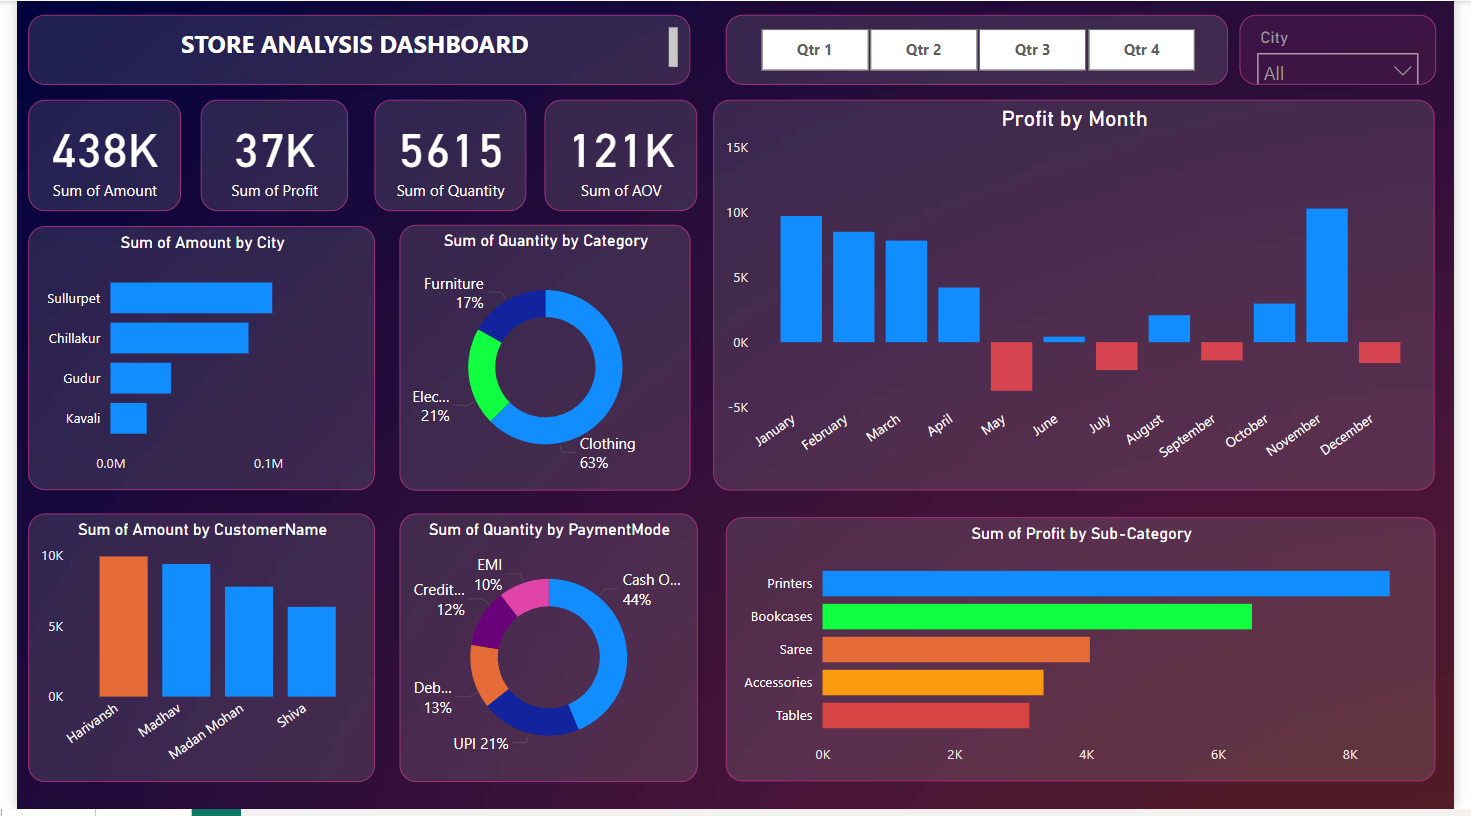

The page's visual inventory and layout, read from the dashboard file:
{"tool":"powerbi","page":{"name":"Page 1","canvas":[1280,720],"ordinal":0},"visuals":[{"type":"textbox","box":[9.7,12.1,589.9,62.7],"z":0},{"type":"columnChart","title":"Profit by Month","fields":{"Category":["d_Orders.Order Date.Variation.Date Hierarchy.Month"],"Y":["f_Details.Profit"]},"box":[620.4,88,642,347.7],"z":1000},{"type":"barChart","fields":{"Category":["f_Details.Sub-Category"],"Y":["f_Details.Profit"]},"box":[631,459.7,632.2,235.3],"z":2000},{"type":"donutChart","fields":{"Category":["f_Details.Category"],"Y":["f_Details.Quantity"]},"box":[340.2,199.1,259.4,236.5],"z":3000},{"type":"donutChart","fields":{"Category":["f_Details.PaymentMode"],"Y":["f_Details.Quantity"]},"box":[340.2,456,265.4,238.9],"z":4000},{"type":"card","fields":{"Values":["f_Details.Amount"]},"box":[9.7,88.1,136.3,98.9],"z":5000},{"type":"card","fields":{"Values":["f_Details.Quantity"]},"box":[318.5,88.1,135.1,98.9],"z":6000},{"type":"card","fields":{"Values":["f_Details.Profit"]},"box":[164.1,88.1,131.5,98.9],"z":7000},{"type":"card","fields":{"Values":["f_Details.AOV"]},"box":[469.3,88.1,136.3,98.9],"z":8000},{"type":"barChart","fields":{"Category":["d_Orders.City"],"Y":["f_Details.Amount"]},"box":[9.7,200.3,308.8,235.3],"z":9000},{"type":"columnChart","fields":{"Category":["d_Orders.CustomerName"],"Y":["f_Details.Amount"]},"box":[9.7,456,308.8,238.9],"z":10000},{"type":"slicer","fields":{"Values":["d_Orders.Order Date.Variation.Date Hierarchy.Quarter"]},"box":[631,12.1,447.6,62.7],"z":11000},{"type":"slicer","fields":{"Values":["d_Orders.City"]},"box":[1088.2,12.1,174.9,62.7],"z":12000}]}

Visuals, with their boxes in screenshot pixels (x1, y1, x2, y2), scaled from the page's 1280x720 canvas onto the 1471x816 screenshot:
textbox: detection(11, 14, 689, 85)
"Profit by Month" columnChart: detection(713, 100, 1451, 494)
barChart - f_Details.Sub-Category x f_Details.Profit: detection(725, 521, 1452, 788)
donutChart - f_Details.Category x f_Details.Quantity: detection(391, 226, 689, 494)
donutChart - f_Details.PaymentMode x f_Details.Quantity: detection(391, 517, 696, 788)
card - f_Details.Amount: detection(11, 100, 168, 212)
card - f_Details.Quantity: detection(366, 100, 521, 212)
card - f_Details.Profit: detection(189, 100, 340, 212)
card - f_Details.AOV: detection(539, 100, 696, 212)
barChart - d_Orders.City x f_Details.Amount: detection(11, 227, 366, 494)
columnChart - d_Orders.CustomerName x f_Details.Amount: detection(11, 517, 366, 788)
slicer - d_Orders.Order Date.Variation.Date Hierarchy.Quarter: detection(725, 14, 1240, 85)
slicer - d_Orders.City: detection(1251, 14, 1452, 85)
